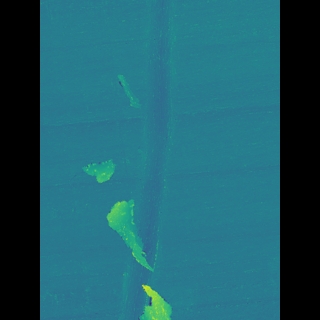Loch: (123, 0, 174, 320), (118, 197, 156, 274), (143, 285, 173, 320), (98, 155, 128, 188)
